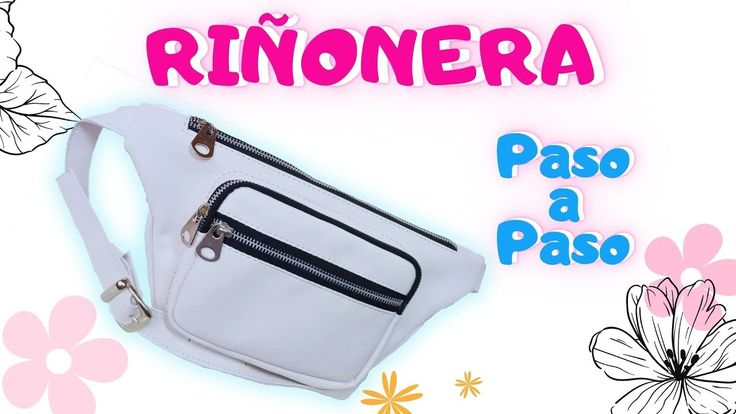cuero: (56, 100, 486, 401)
